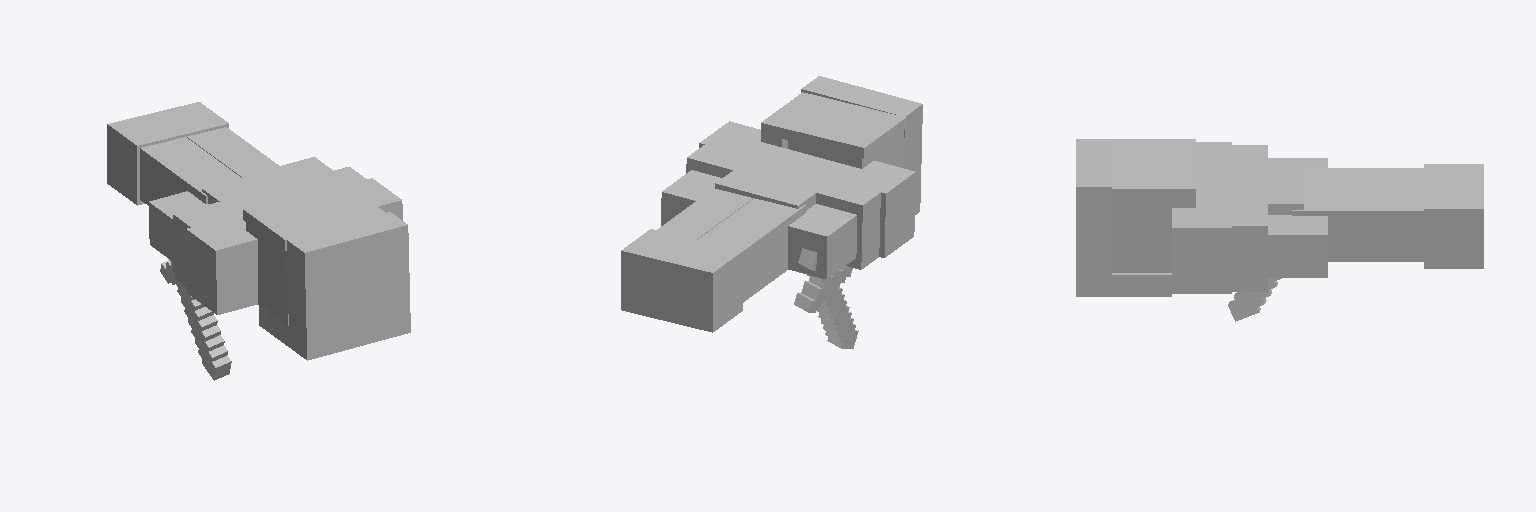
File: black.obj
3 renders of one model, left to right at view 1: azimuth 30°, elevation 25°; view 2: azimuth 150°, elevation 25°; view 3: azimuth 270°, elevation 25°, orthographic.
Visible parts, largest first — view 1: obj_0; view 2: obj_0; view 3: obj_0.
Boxes of the visible parts, x1,y1,x2,y2 form: obj_0: [107, 102, 410, 380]; obj_0: [621, 76, 922, 348]; obj_0: [1076, 139, 1483, 321].
Bounding box in the file's own units: 18.15 × 17.21 × 34.